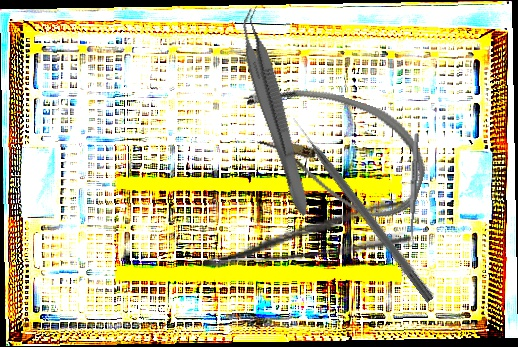Cannula: (225, 69, 440, 228)
Dressing Forceps: (196, 197, 413, 272)
Pusher: (289, 113, 437, 304)
Surgical Spoon: (407, 132, 420, 248)
Tissue Forceps: (229, 4, 324, 219)
